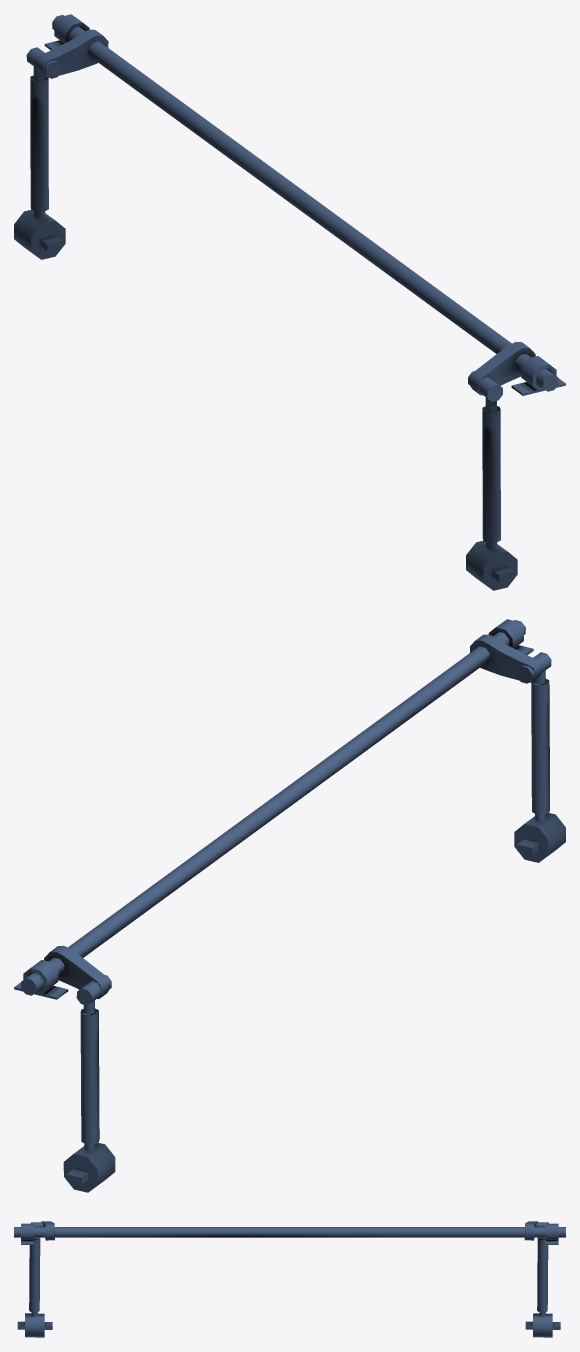
File: niugan.FBX
3 views of the same model, one above another, from view 1: azimuth 30°, elevation 25°; view 2: azimuth 150°, elevation 25°; view 3: azimuth 270°, elevation 25° (orthographic). The views are drawn at different scales.
Visible parts, largest first — view 1: 2; view 2: 2; view 3: 2.
Part boxes in pixels (x1,y1,x2,y2): 2: (14, 14, 565, 590); 2: (14, 619, 565, 1192); 2: (14, 1221, 565, 1337).
Size of the model in its own units: 0.2298 by 0.6062 by 2.47.
